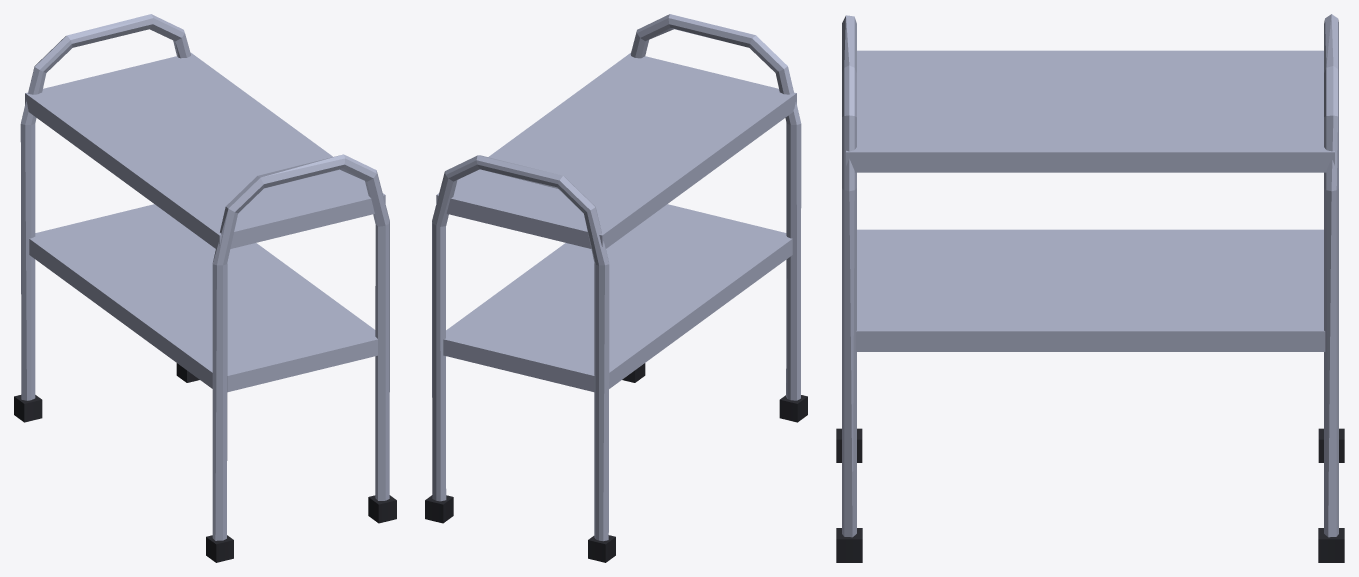
File: wheelchair2.fbx
3 views of the same model, side by side, from view 1: azimuth 30°, elevation 25°; view 2: azimuth 150°, elevation 25°; view 3: azimuth 270°, elevation 25° (orthographic). The views are drawn at different scales.
Visible parts, largest first — view 1: Куб.192; view 2: Куб.192; view 3: Куб.192.
Part boxes in pixels (box(x1,y1,x2,y2)): Куб.192: box(14, 14, 396, 562); Куб.192: box(425, 14, 807, 562); Куб.192: box(836, 14, 1344, 562).
Size of the model in its own units: 48.53 by 95.68 by 94.13.
